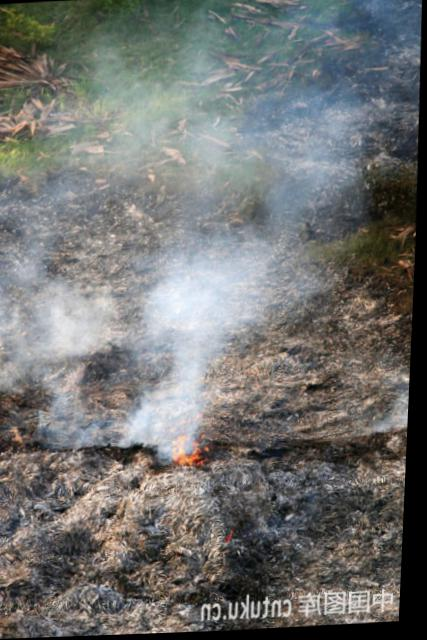fire: (174, 439, 210, 470)
